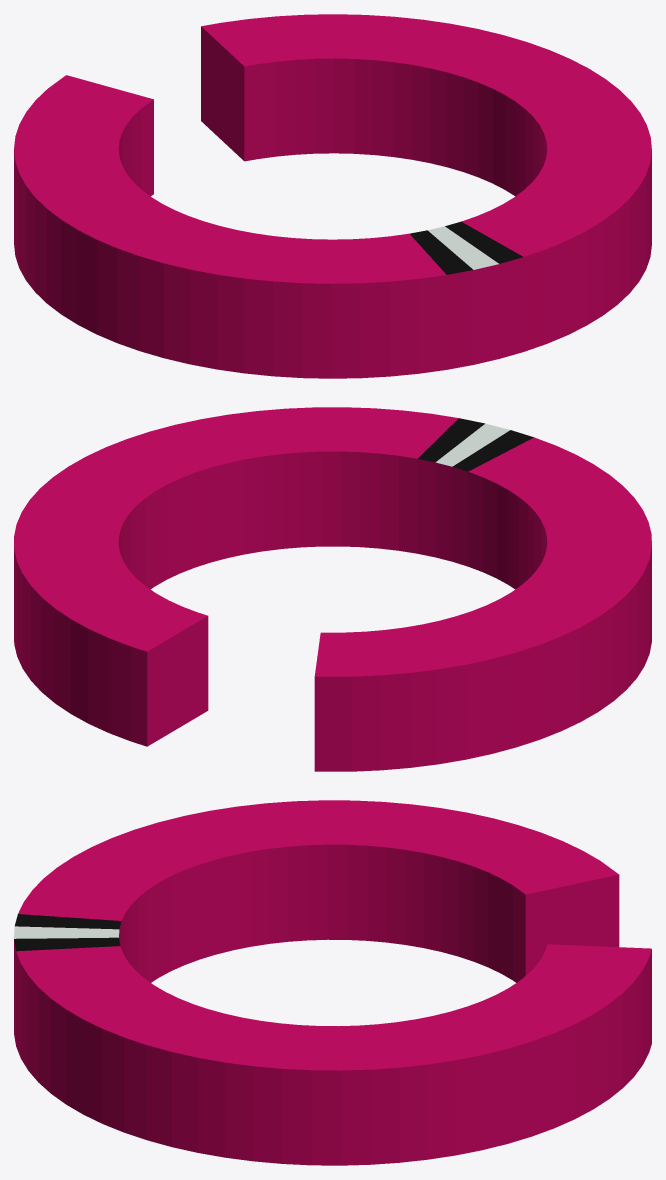
File: gapCircle1.fbx
3 views of the same model, one above another, from view 1: azimuth 30°, elevation 25°; view 2: azimuth 150°, elevation 25°; view 3: azimuth 270°, elevation 25° (orthographic).
Visible parts, largest first — view 1: Cube; view 2: Cube; view 3: Cube.
Boxes of the visible parts, x1,y1,x2,y2 form: Cube: [14, 14, 651, 378]; Cube: [14, 407, 651, 771]; Cube: [14, 800, 651, 1165].
Size of the model in its own units: 1218 by 200 by 1215.
